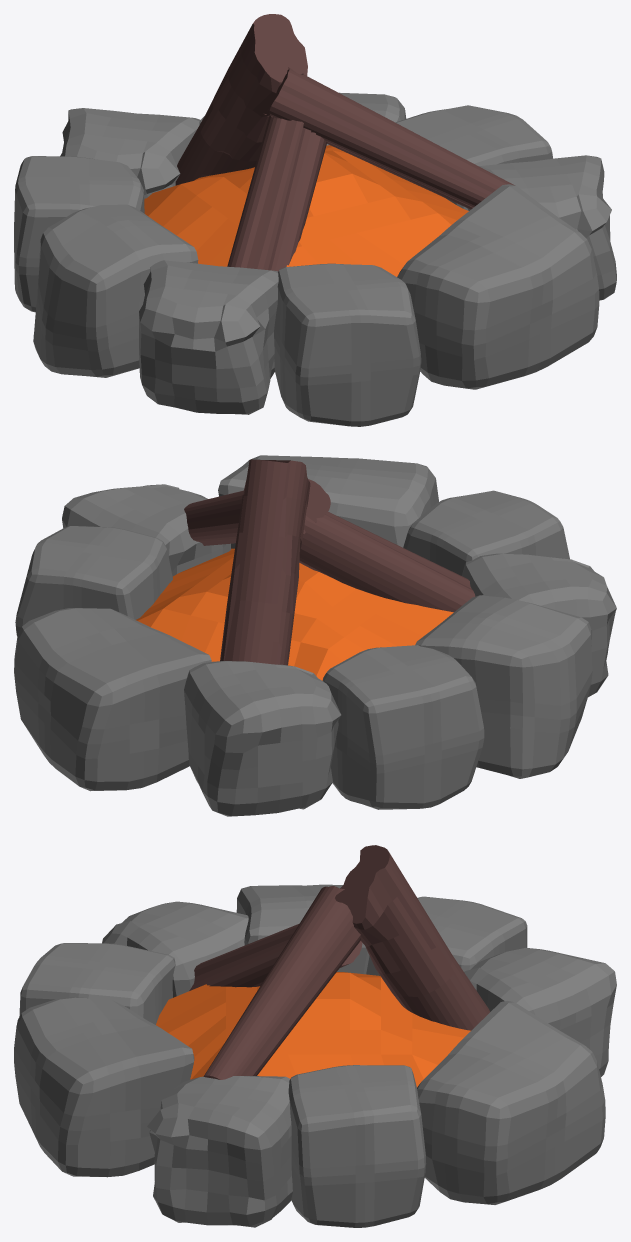
File: Bonfire.fbx
The picture shows the model from 3 angles, top to bottom: view 1: azimuth 30°, elevation 25°; view 2: azimuth 150°, elevation 25°; view 3: azimuth 270°, elevation 25°; orthographic projection. The views are drawn at different scales.
Parts seen in each view (by area): view 1: Cube, Cube.008, Plane, Cube.007, Cube.006, Cylinder.001, Cylinder.002, Cylinder, Cube.005, Cube.004, Cube.001, Cube.002 (+1 smaller); view 2: Cube.003, Cube.005, Cube.004, Cube.006, Plane, Cylinder.002, Cube.002, Cylinder, Cube.008, Cube, Cube.007, Cube.001 (+1 smaller); view 3: Cube.003, Cube, Cube.002, Cube.001, Plane, Cylinder.002, Cylinder.001, Cube.004, Cube.008, Cube.007, Cube.005, Cube.006 (+1 smaller).
Boxes of the visible parts, left/top/right/bottom form: Cube: left=397, top=184, right=599, bottom=389; Cube.008: left=274, top=263, right=421, bottom=426; Plane: left=144, top=145, right=468, bottom=276; Cube.007: left=139, top=260, right=278, bottom=414; Cube.006: left=33, top=204, right=198, bottom=377; Cylinder.001: left=263, top=67, right=514, bottom=209; Cylinder.002: left=175, top=14, right=307, bottom=185; Cylinder: left=227, top=114, right=327, bottom=271; Cube.005: left=14, top=156, right=144, bottom=312; Cube.004: left=60, top=108, right=200, bottom=199; Cube.001: left=467, top=155, right=616, bottom=300; Cube.002: left=395, top=105, right=552, bottom=210; Cube.003: left=14, top=608, right=211, bottom=791; Cube.005: left=322, top=645, right=484, bottom=809; Cube.004: left=184, top=661, right=341, bottom=816; Cube.006: left=415, top=595, right=592, bottom=778; Plane: left=136, top=548, right=453, bottom=680; Cylinder.002: left=220, top=459, right=310, bottom=665; Cube.002: left=15, top=526, right=172, bottom=635; Cylinder: left=299, top=512, right=475, bottom=612; Cube.008: left=403, top=490, right=569, bottom=575; Cube: left=218, top=455, right=438, bottom=548; Cube.007: left=462, top=553, right=616, bottom=697; Cube.001: left=62, top=484, right=230, bottom=576; Cube.003: left=417, top=1001, right=605, bottom=1204; Cube: left=14, top=997, right=194, bottom=1177; Cube.002: left=288, top=1065, right=426, bottom=1227; Cube.001: left=147, top=1076, right=292, bottom=1227; Plane: left=156, top=972, right=470, bottom=1087; Cylinder.002: left=335, top=845, right=489, bottom=1030; Cylinder.001: left=203, top=886, right=361, bottom=1079; Cube.004: left=464, top=947, right=616, bottom=1076; Cube.008: left=19, top=943, right=175, bottom=1024; Cube.007: left=102, top=901, right=248, bottom=997; Cube.005: left=366, top=896, right=527, bottom=975; Cube.006: left=236, top=884, right=369, bottom=974.
Bounding box in the file's own units: 928 × 465 × 930.
